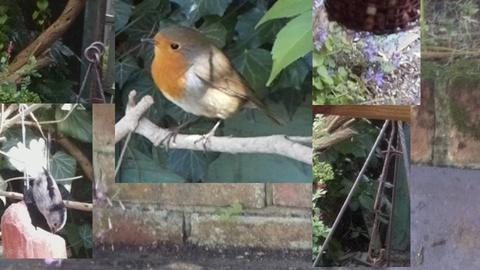long tailed tit: (33, 128, 68, 234)
robin: (140, 25, 288, 158)
